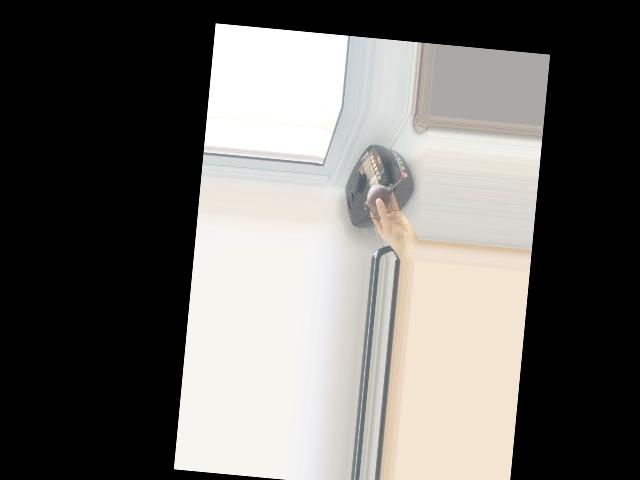beet: (363, 172, 403, 220)
